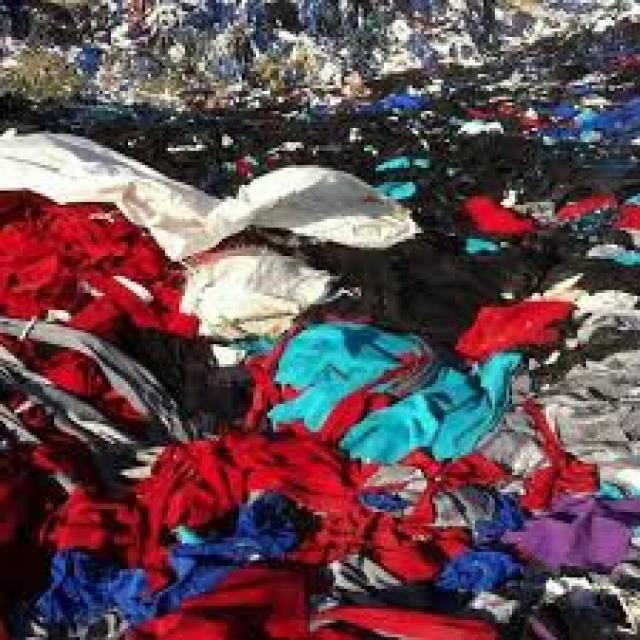Clothes -Biodegradable-: (3, 1, 640, 640)
